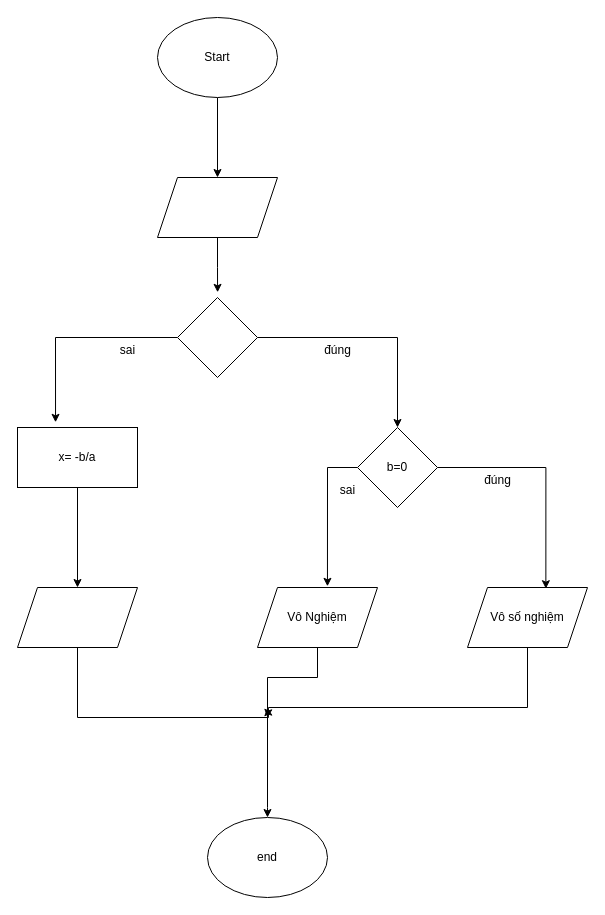
Image size: 605x915. Some labels were removed from this diagram. The centre of each missing label's shape, as x and y in pixels:
"a,b" goes at pixel 217 207.
"a=0" goes at pixel 217 337.
"pt có nghiệm x" goes at pixel 77 617.
